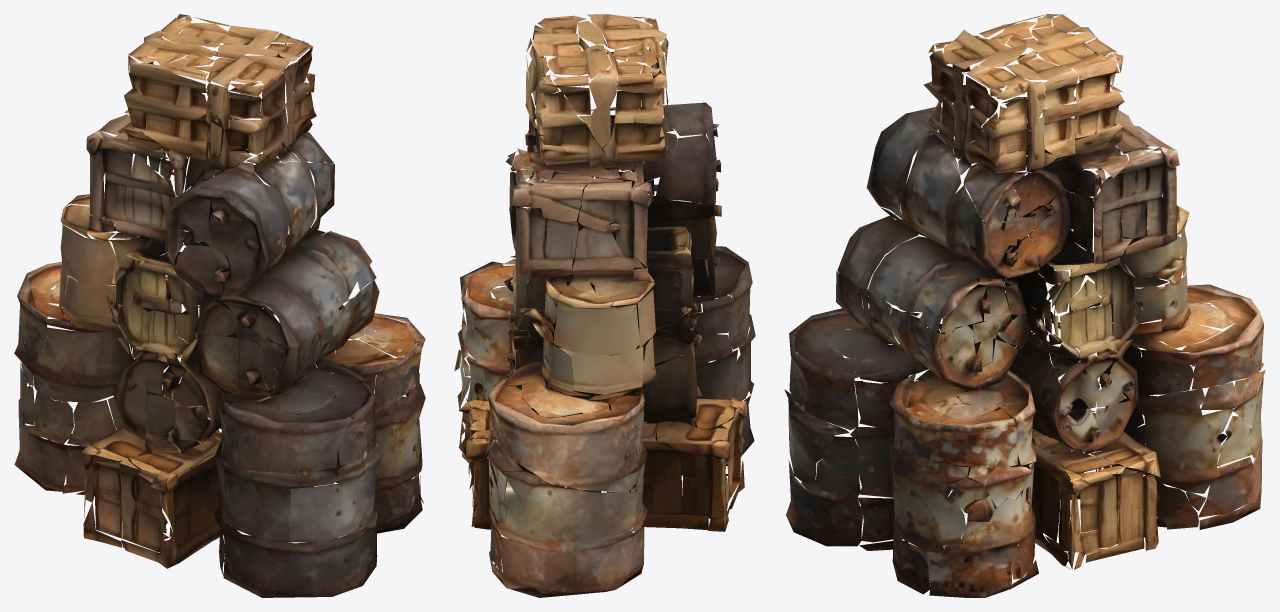
File: barrel_stack.glb
The picture shows the model from 3 angles, left to right: view 1: azimuth 30°, elevation 25°; view 2: azimuth 150°, elevation 25°; view 3: azimuth 270°, elevation 25°; orthographic projection. The views are drawn at different scales.
Parts seen in each view (by area): view 1: tripo_node_f7fdf1b9-505b-448d-b4e4-6f33c21217bc; view 2: tripo_node_f7fdf1b9-505b-448d-b4e4-6f33c21217bc; view 3: tripo_node_f7fdf1b9-505b-448d-b4e4-6f33c21217bc.
Part boxes in pixels (bbox=[...]): tripo_node_f7fdf1b9-505b-448d-b4e4-6f33c21217bc: bbox=[14, 14, 425, 597]; tripo_node_f7fdf1b9-505b-448d-b4e4-6f33c21217bc: bbox=[454, 14, 755, 597]; tripo_node_f7fdf1b9-505b-448d-b4e4-6f33c21217bc: bbox=[784, 14, 1265, 597].
Size of the model in its own units: 0.6795 by 0.9999 by 0.9189.
Materials: 1 (1 with a texture image).
